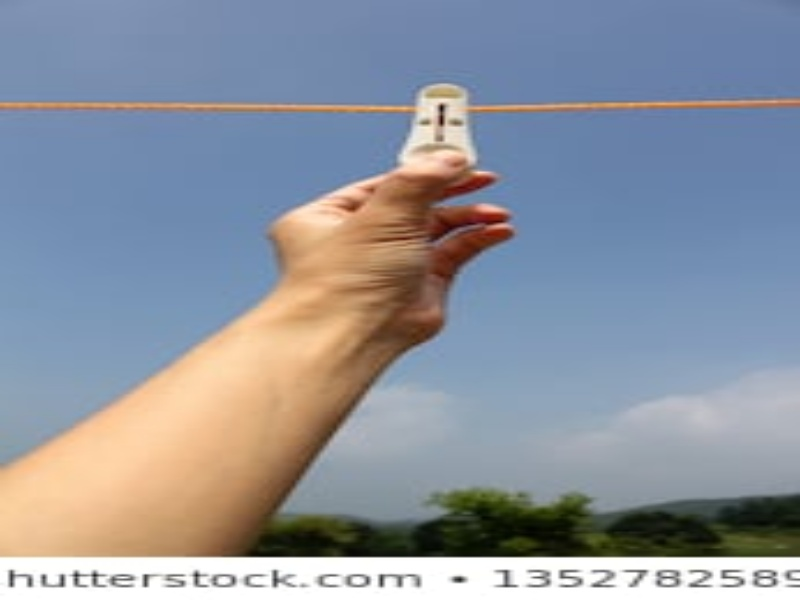plastic-peg: (390, 79, 502, 169)
